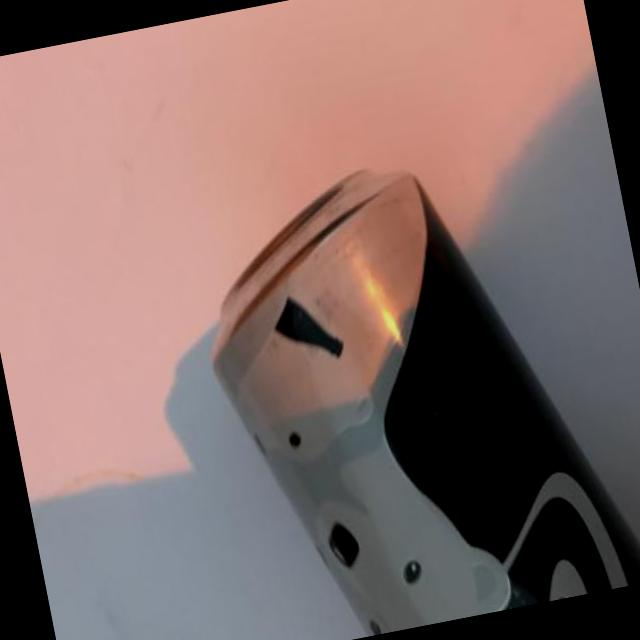kim_loai: (213, 171, 640, 636)
